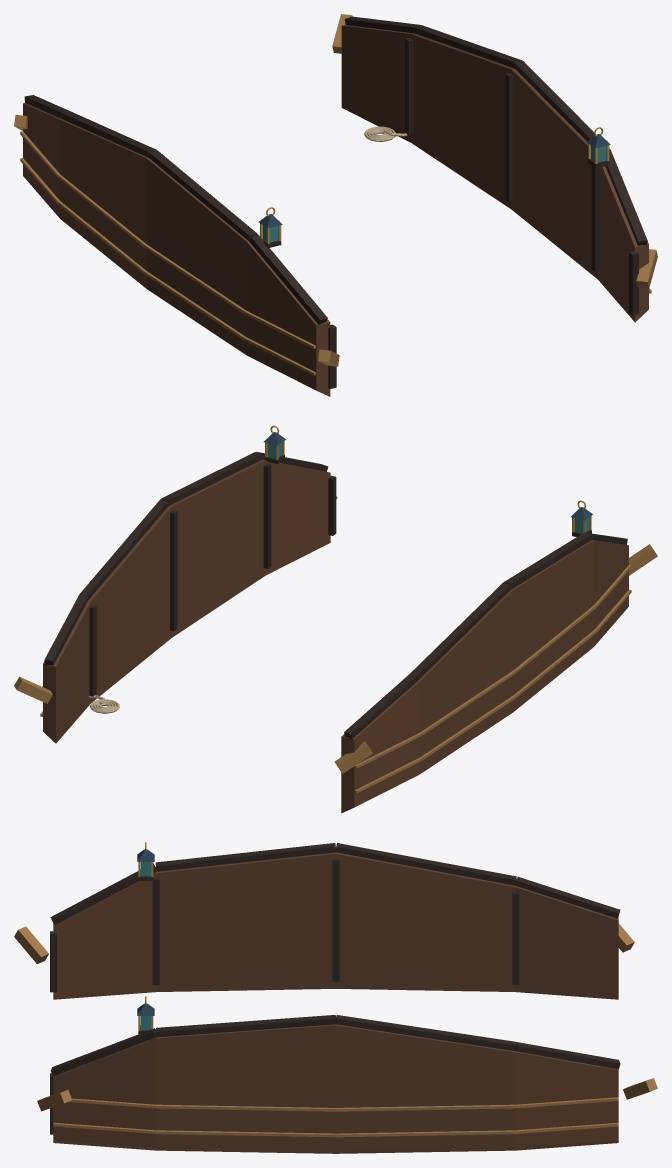
Rendered from PirateCove_WreckHull_Showcase.glb.
3 renders of one model, top to bottom at view 1: azimuth 30°, elevation 25°; view 2: azimuth 150°, elevation 25°; view 3: azimuth 270°, elevation 25°, orthographic. The views are drawn at different scales.
Parts seen in each view (by area): view 1: PirateCove_WreckHull_Showcase; view 2: PirateCove_WreckHull_Showcase; view 3: PirateCove_WreckHull_Showcase.
Boxes of the visible parts, x1,y1,x2,y2 form: PirateCove_WreckHull_Showcase: (14, 14, 657, 396); PirateCove_WreckHull_Showcase: (14, 425, 657, 813); PirateCove_WreckHull_Showcase: (14, 842, 657, 1153).
Size of the model in its own units: 8.31 by 3.25 by 12.54.
